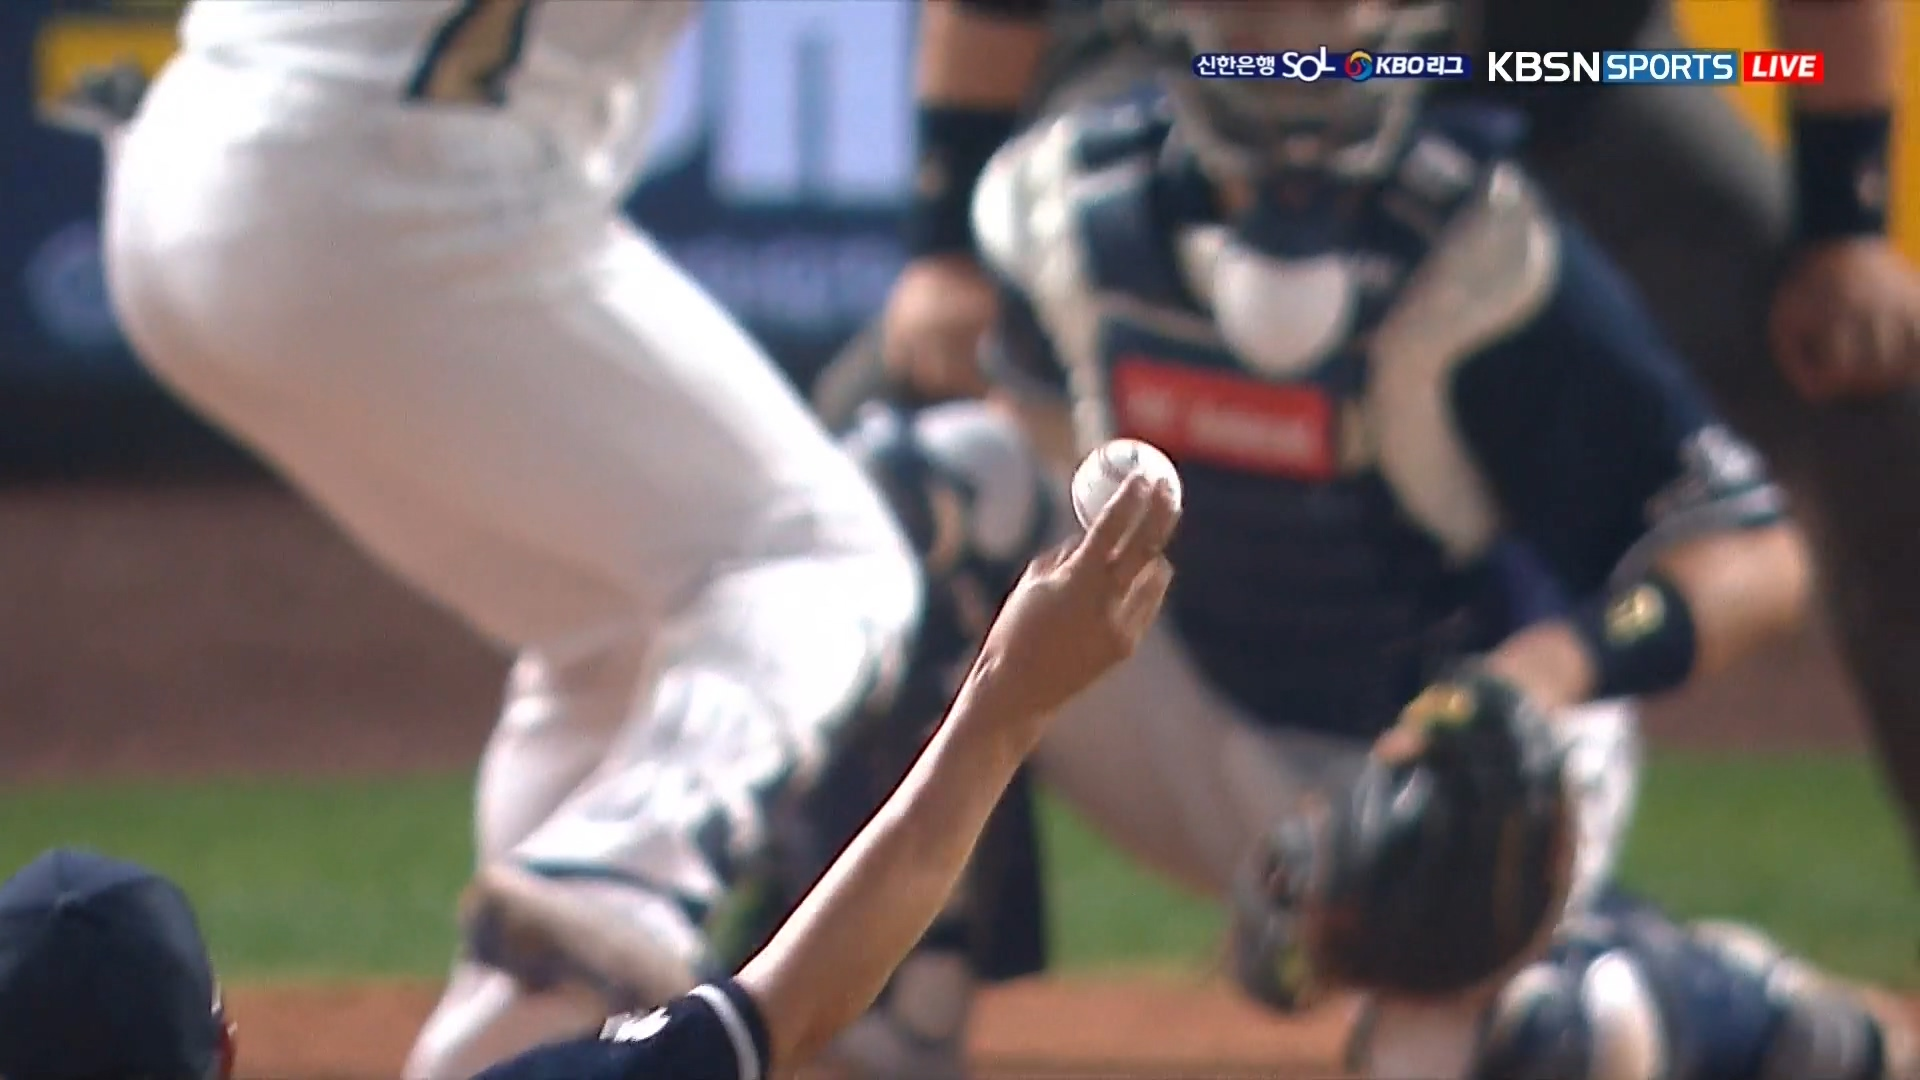zoomin_hand: (762, 411, 1225, 1064)
